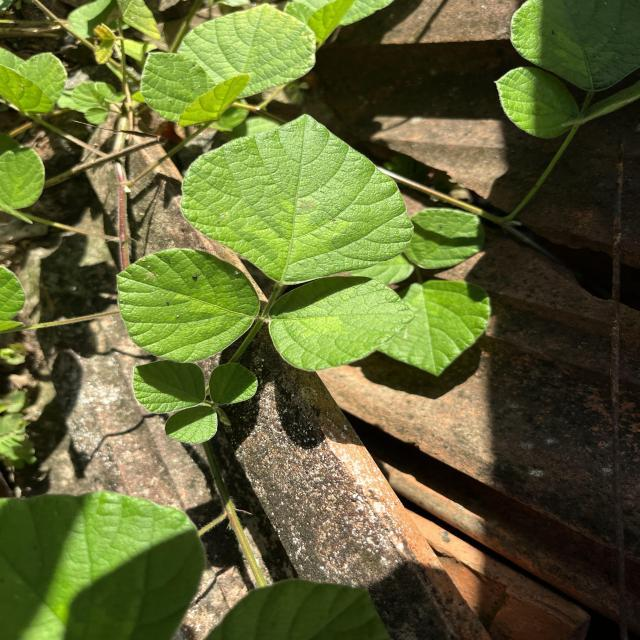Pseudarthria viscida: (112, 106, 418, 374), (130, 361, 262, 448)
